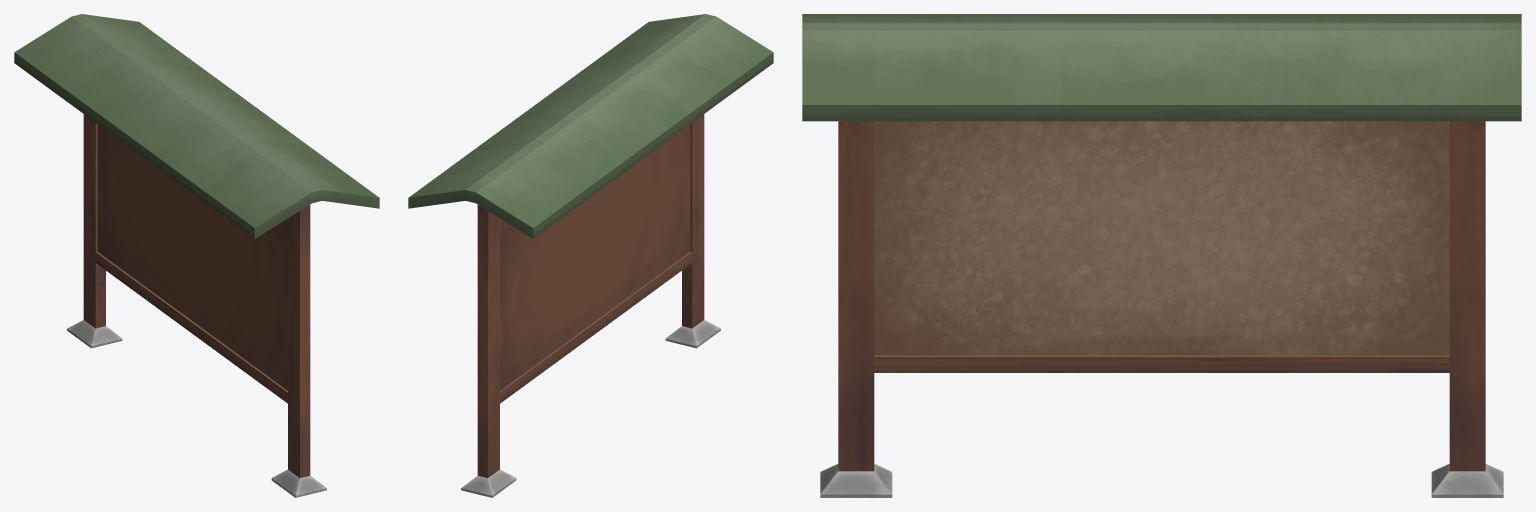
The model's file is sign.fbx.
3 views of the same model, side by side, from view 1: azimuth 30°, elevation 25°; view 2: azimuth 150°, elevation 25°; view 3: azimuth 270°, elevation 25° (orthographic). The views are drawn at different scales.
Visible parts, largest first — view 1: Cube; view 2: Cube; view 3: Cube.
Part boxes in pixels (box(x1,y1,x2,y2)): Cube: box(14, 14, 379, 497); Cube: box(408, 14, 773, 497); Cube: box(802, 14, 1521, 497).
Bounding box in the file's own units: 120 × 282 × 400.
Materials: 1 (1 with a texture image).
